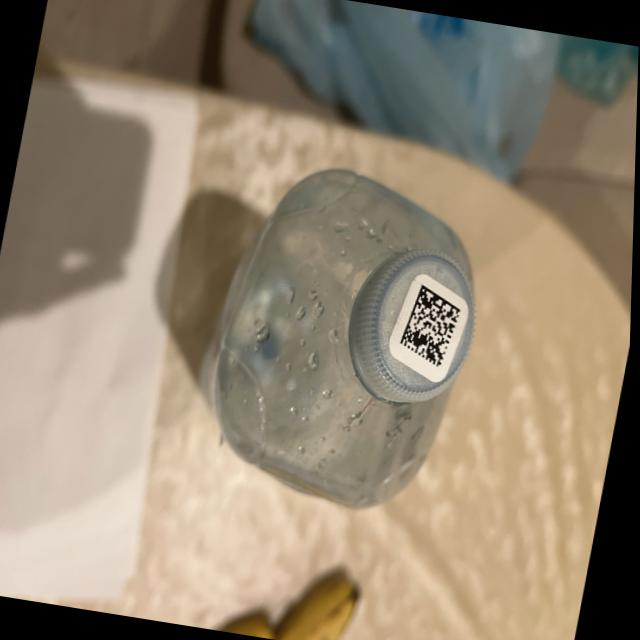datamatrix: (398, 283, 467, 371)
